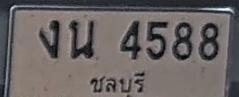4: (120, 20, 140, 59)
5: (146, 20, 168, 60)
8: (172, 21, 192, 60), (199, 22, 219, 60)
A07: (38, 19, 61, 58)
A25: (69, 20, 95, 59)
CBI: (85, 68, 151, 97)
